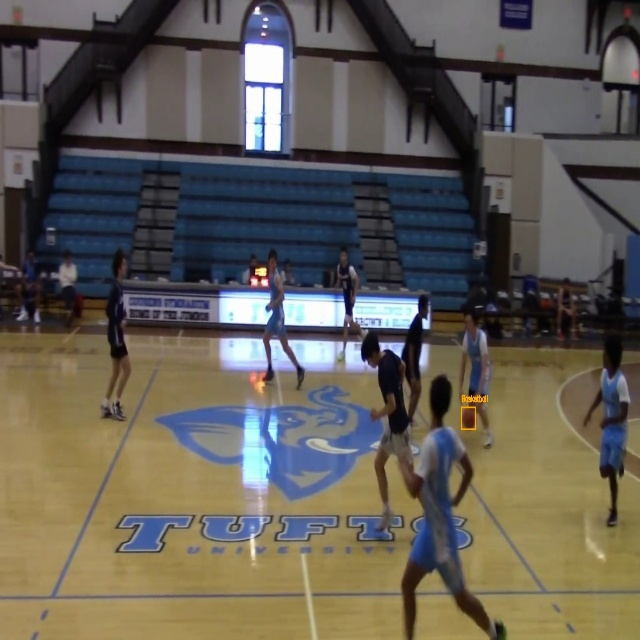Basketball: (462, 407, 475, 430)
